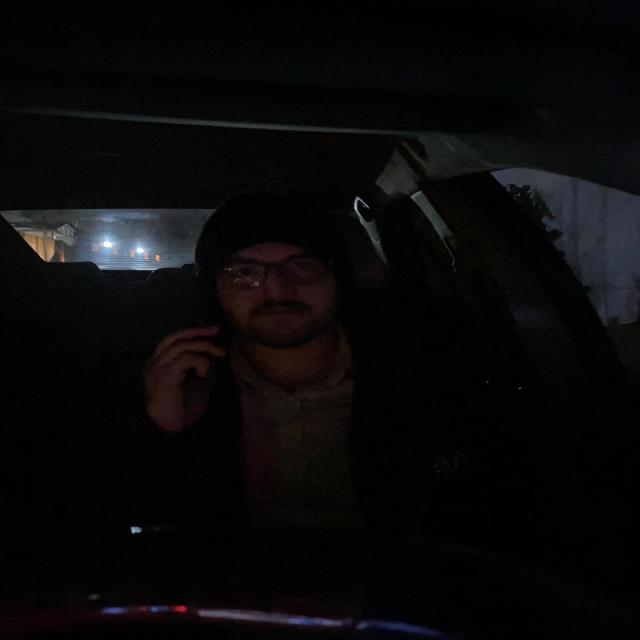mobile: (182, 315, 240, 396)
person: (205, 207, 348, 342)
